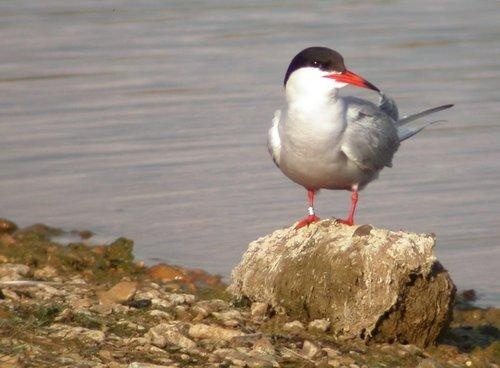bird: (267, 46, 448, 228)
